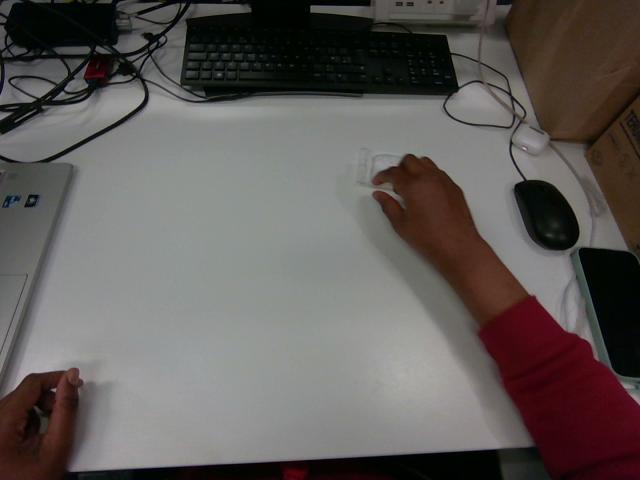gauze: (356, 148, 402, 189)
